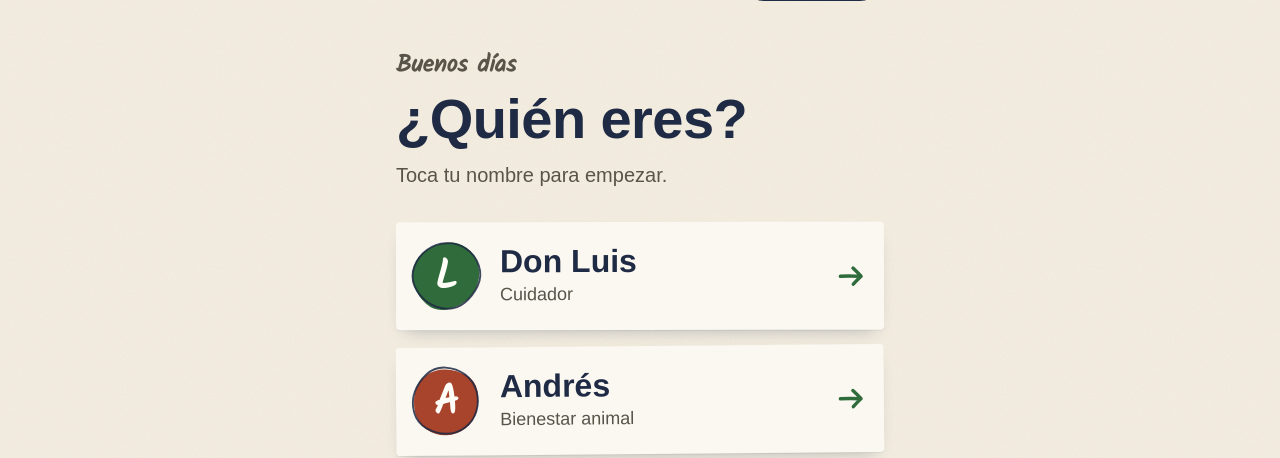
Scenario: Hoy del cuidador › cuando llegan bultos pregunta cuántos
The image size is (1280, 458).
What coordinates should you click on to do the following:
click the button "L Don Luis Cuidador"
I would click on:
 (446, 277)
Its box is left=396, top=222, right=884, bottom=331.
(page scrolled)
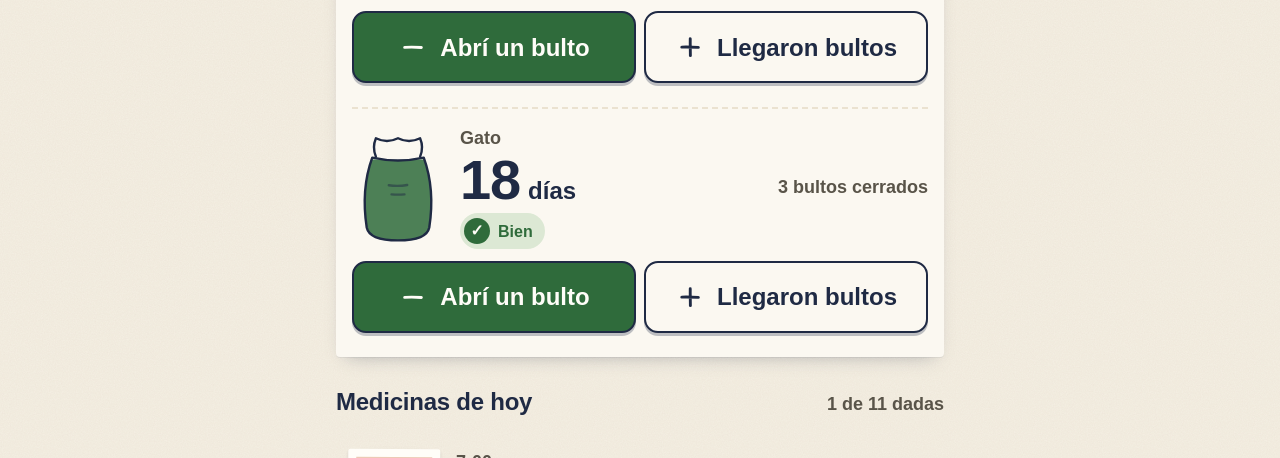
What coordinates should you click on to do the following:
click the button "Llegaron bultos" below "Bien"
I would click on:
 (786, 297)
Its box is left=644, top=261, right=928, bottom=333.
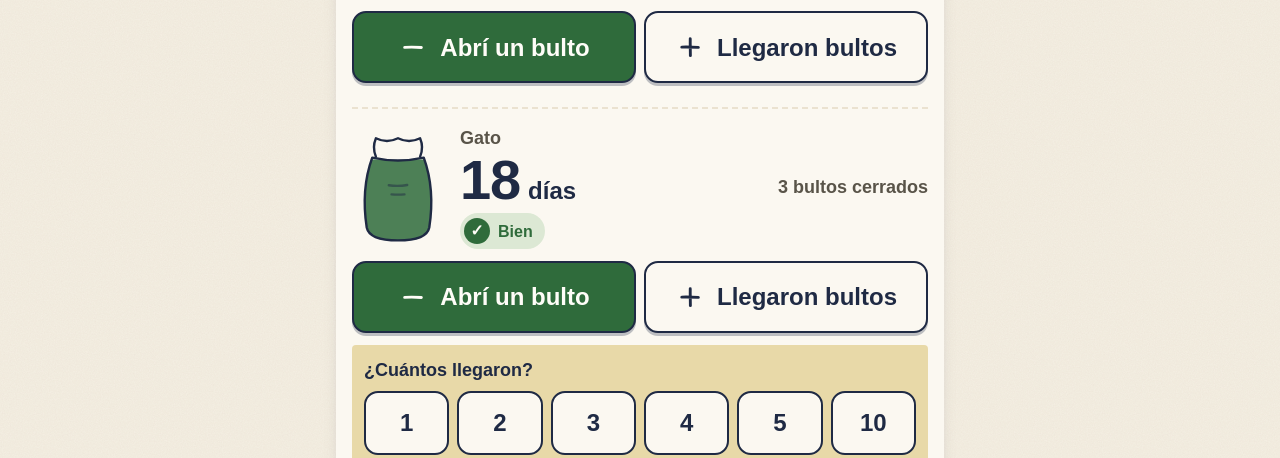
What coordinates should you click on to do the following:
click the button "2"
I would click on:
 (500, 423)
Its box is left=457, top=391, right=543, bottom=455.
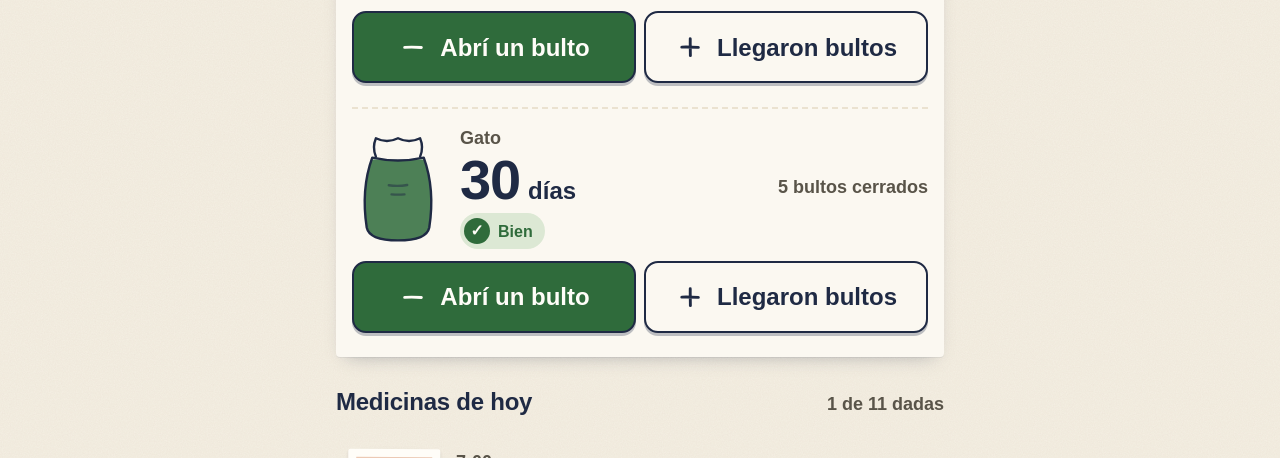
Expected: the text "30" is shown, left=460, top=156, right=520, bottom=206
